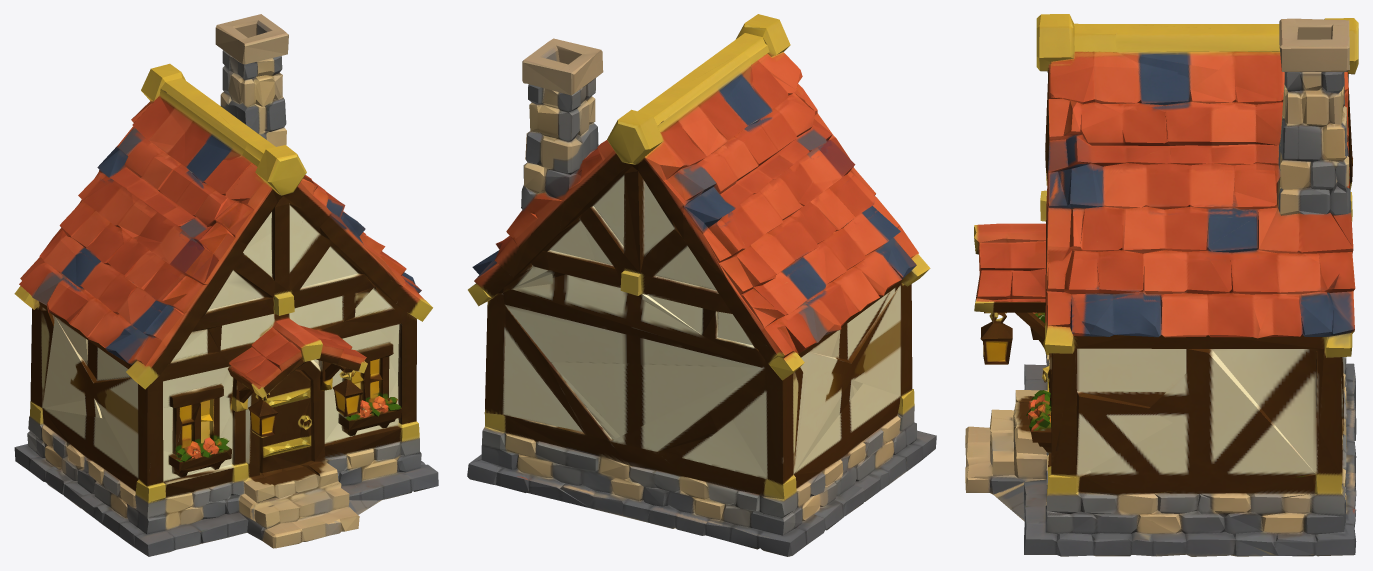
File: TWN_STR_house_A.glb
3 renders of one model, left to right at view 1: azimuth 30°, elevation 25°; view 2: azimuth 150°, elevation 25°; view 3: azimuth 270°, elevation 25°, orthographic. The views are drawn at different scales.
Parts seen in each view (by area): view 1: Mesh_0; view 2: Mesh_0; view 3: Mesh_0.
Part boxes in pixels (box(x1,y1,x2,y2)): Mesh_0: box(14, 14, 438, 556); Mesh_0: box(467, 14, 936, 556); Mesh_0: box(965, 14, 1358, 556).
Size of the model in its own units: 1.55 by 1.9 by 1.4.
Materials: 1 (1 with a texture image).
